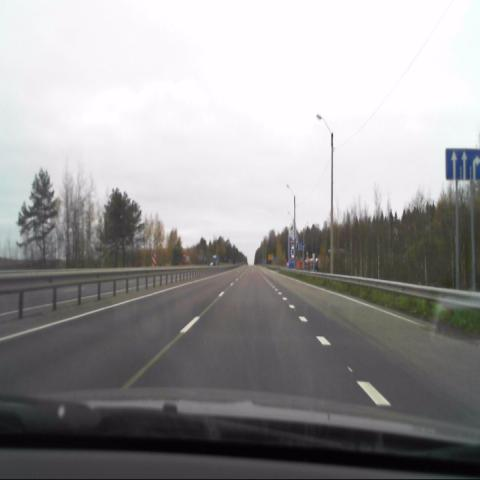5_15_1: (446, 145, 480, 181)
